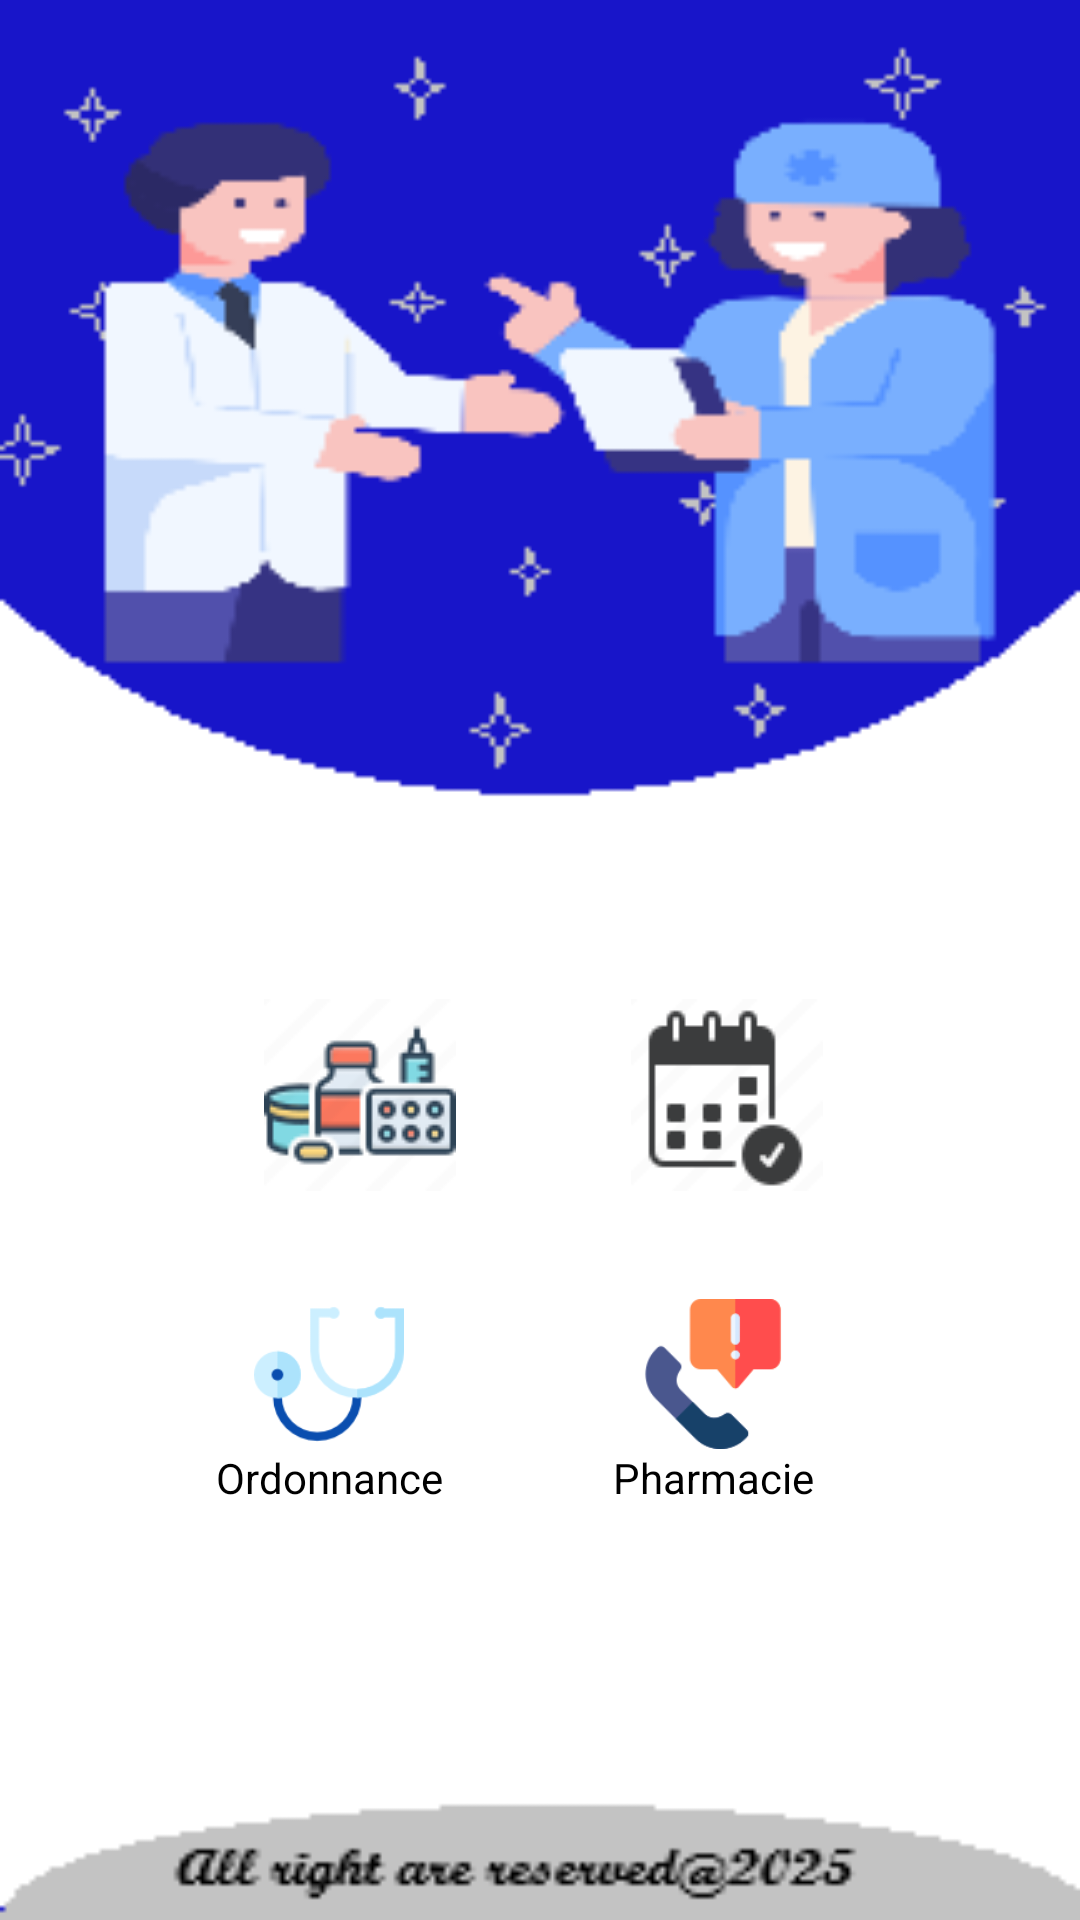

Where icons sit on this 1080×1920 app screen, as [left=x1, top=y1, right=x2, bottom=y2]:
doctrr: [left=254, top=1307, right=404, bottom=1441]
med: [left=264, top=1025, right=456, bottom=1165]
urg: [left=645, top=1299, right=781, bottom=1449]
